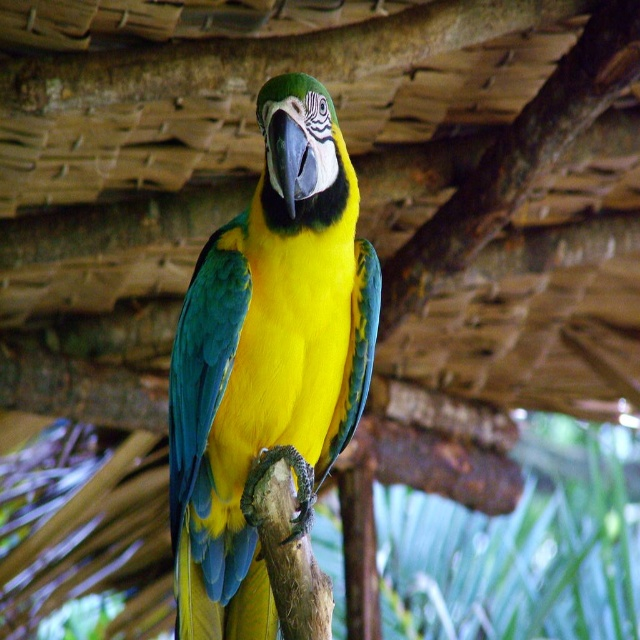Parrot: (169, 73, 386, 639)
